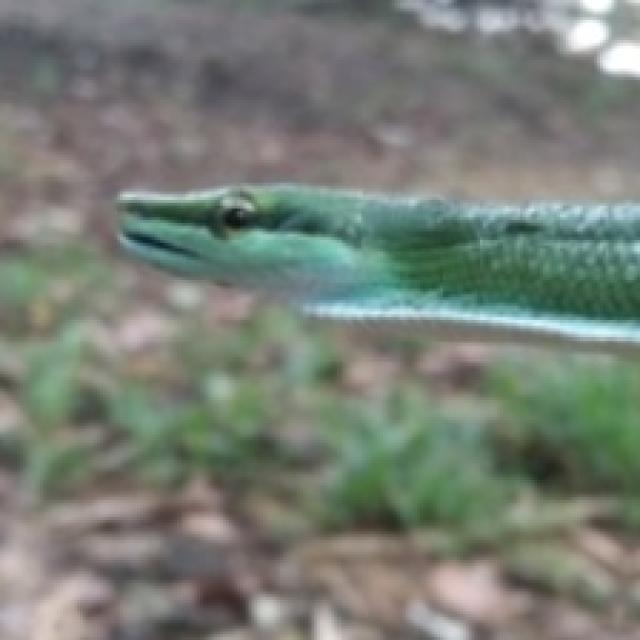red-tailed green ratsnake: (117, 186, 637, 317)
